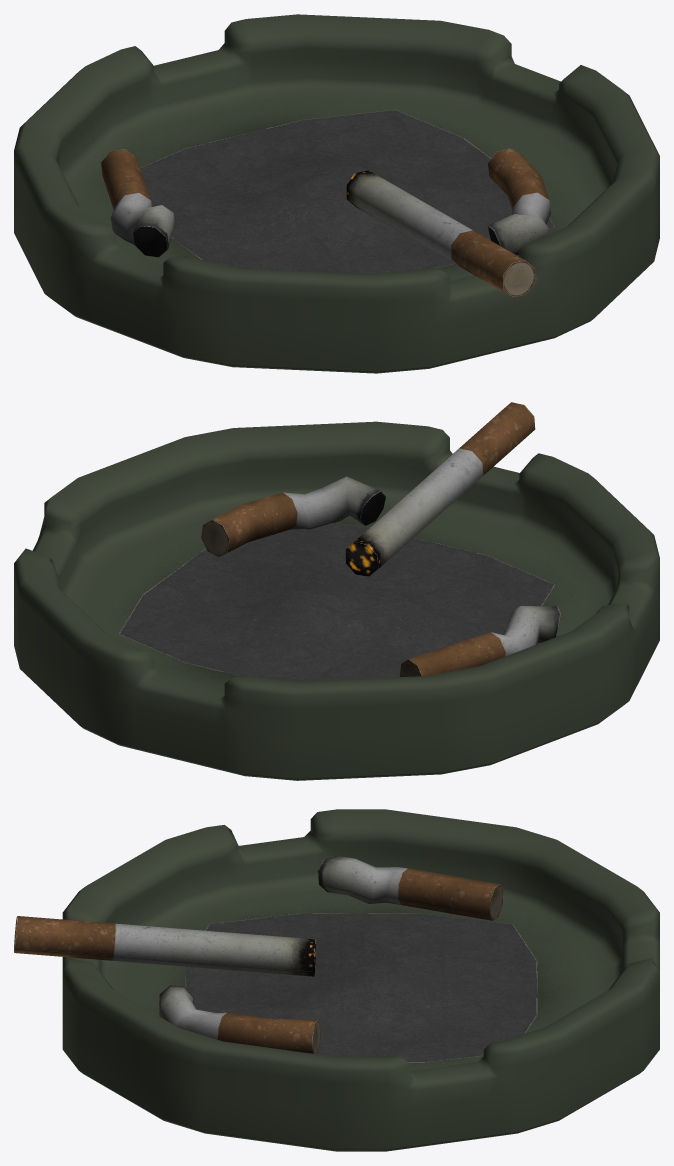
3 views of the same model, one above another, from view 1: azimuth 30°, elevation 25°; view 2: azimuth 150°, elevation 25°; view 3: azimuth 270°, elevation 25° (orthographic). The views are drawn at different scales.
Visible parts, largest first — view 1: Ashtraylowpoly, Ash, Cigs; view 2: Ashtraylowpoly, Ash, Cigs; view 3: Ashtraylowpoly, Ash, Cigs.
Part boxes in pixels (box(x1,y1,x2,y2)): Ashtraylowpoly: box(14, 14, 659, 373); Ash: box(140, 109, 554, 273); Cigs: box(101, 148, 550, 297); Ashtraylowpoly: box(14, 421, 659, 780); Ash: box(119, 523, 554, 681); Cigs: box(201, 402, 560, 676); Ashtraylowpoly: box(62, 809, 659, 1151); Ash: box(185, 913, 537, 1062); Cigs: box(14, 855, 503, 1054).
Bounding box in the file's own units: 6.27 × 1.2 × 6.63.
2 materials, 2 textured.
